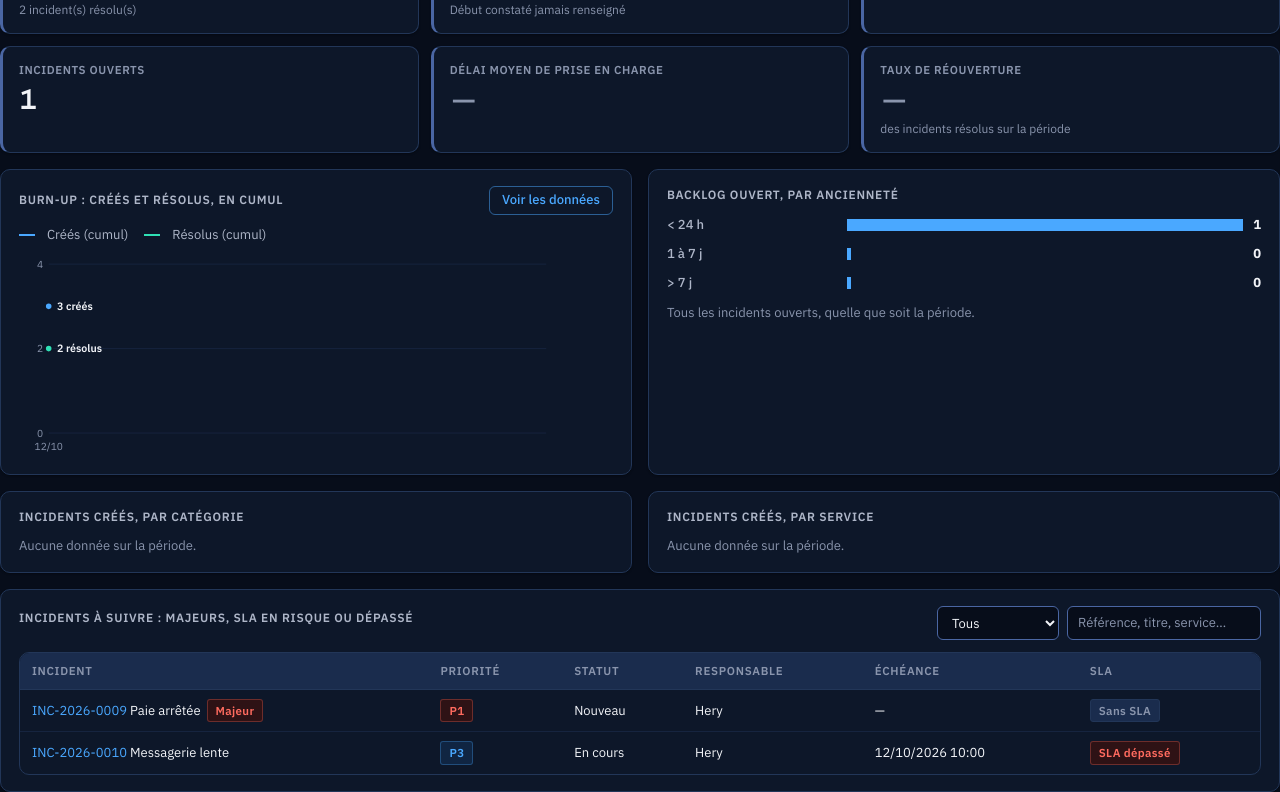
Scenario: passe la période et le service à l'API, et filtre les incidents à suivre
(page scrolled)
Check: the text "Paie arrêtée" is shown, box [130, 702, 201, 719]
Step 1. Select "SLA dépassé" in the dropdown named "Filtrer les incidents à suivre" → (998, 623), box [937, 606, 1059, 640]
(page scrolled)
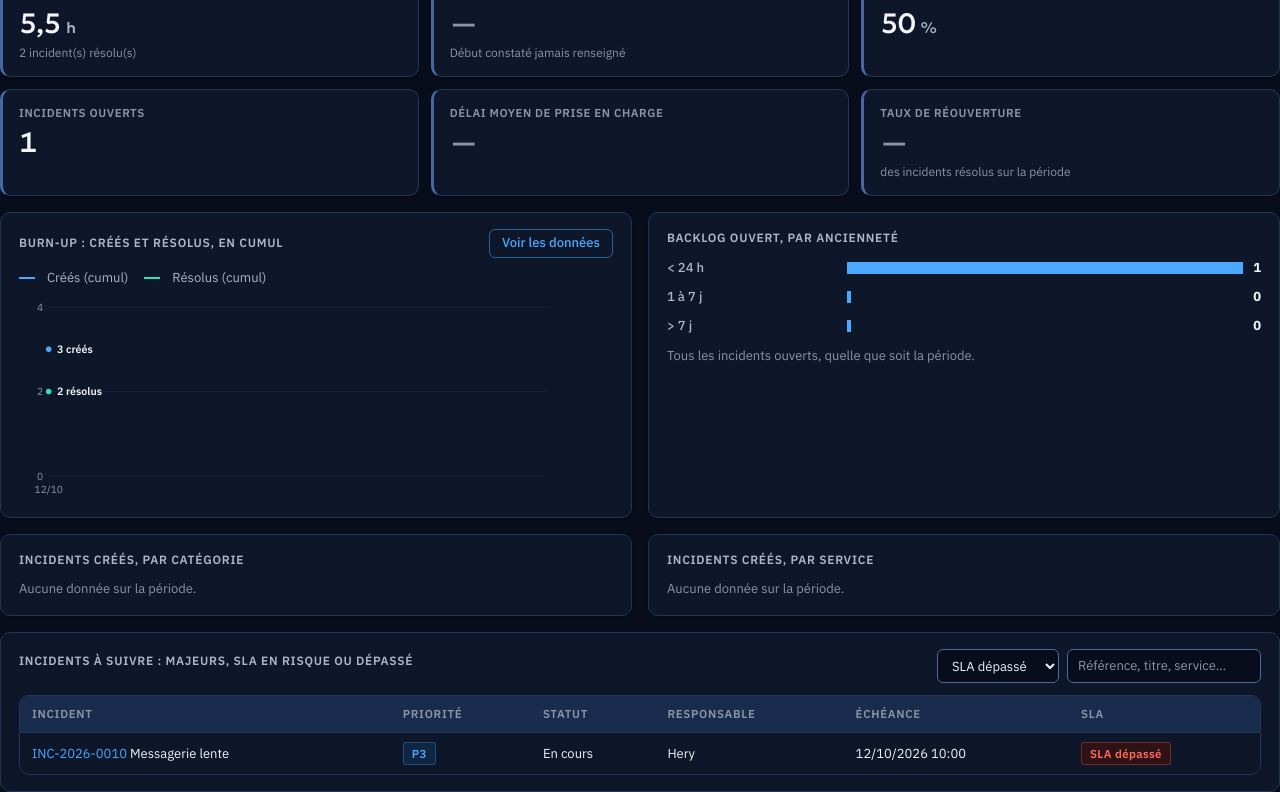
Check: the text "Messagerie lente" is shown, box [130, 745, 229, 762]
Check: the text "Paie arrêtée" is gone
